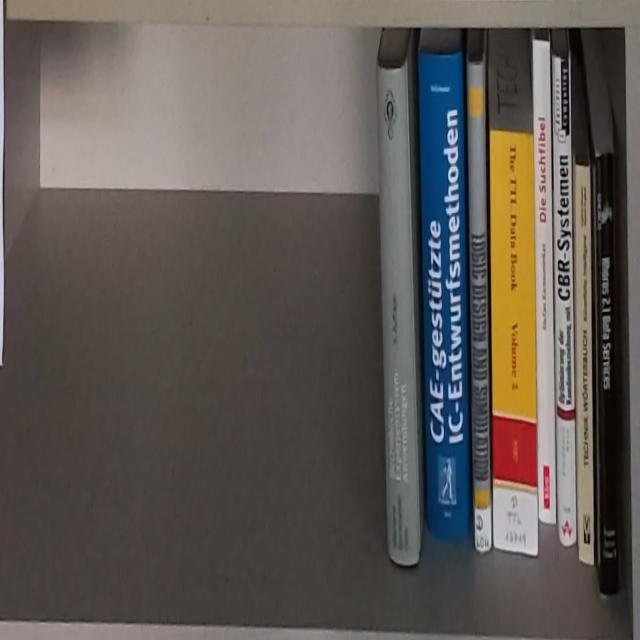Book Spine: (419, 51, 470, 539), (377, 61, 420, 564), (491, 132, 538, 556), (553, 53, 577, 545), (468, 61, 492, 552), (532, 39, 556, 525), (597, 151, 619, 598), (577, 166, 594, 566)
